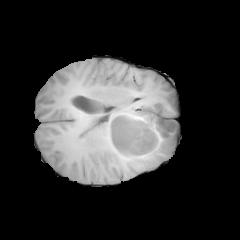glioma: (79, 104, 176, 157)
